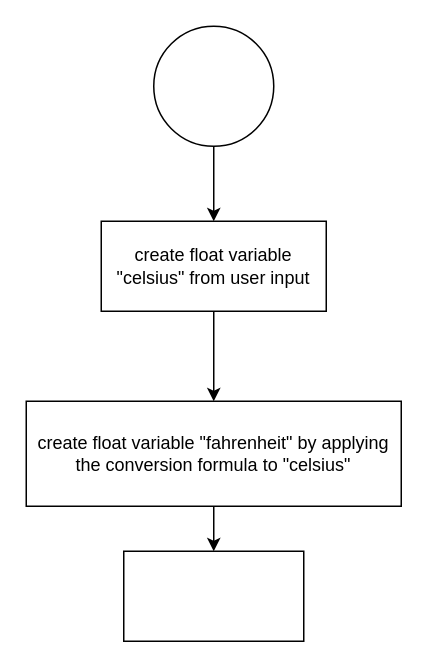
Image size: 428x668. Some labels were removed from this diagram. Here are the shapes that lost their labels. From the top down, the centre of each, then its label:
At [213,85]: "start".
At [213,595]: "print the converted temperature".
